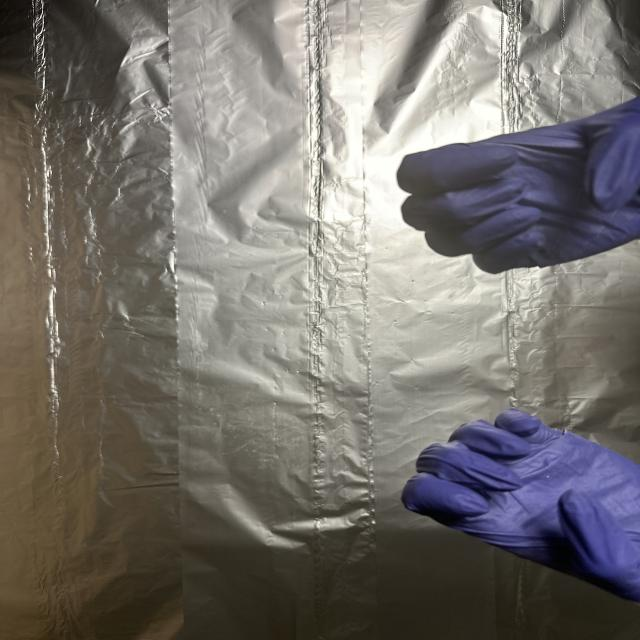gloves_contaminated: (402, 409, 640, 601), (397, 97, 640, 273)
